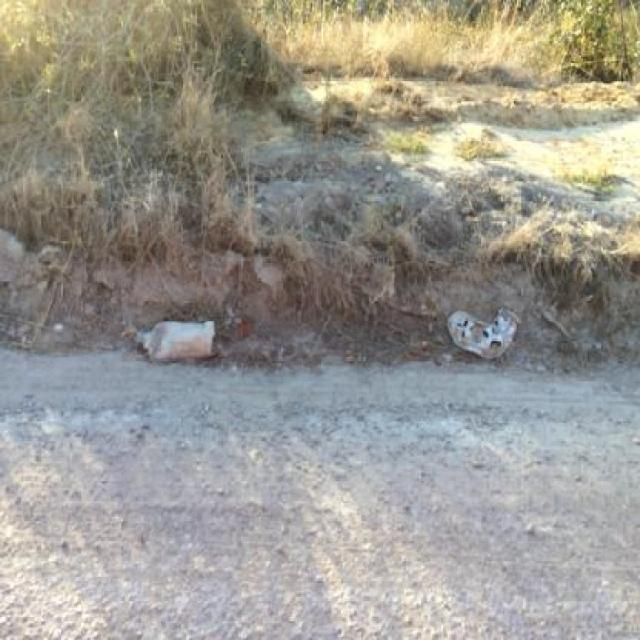plastic: (136, 318, 216, 359)
